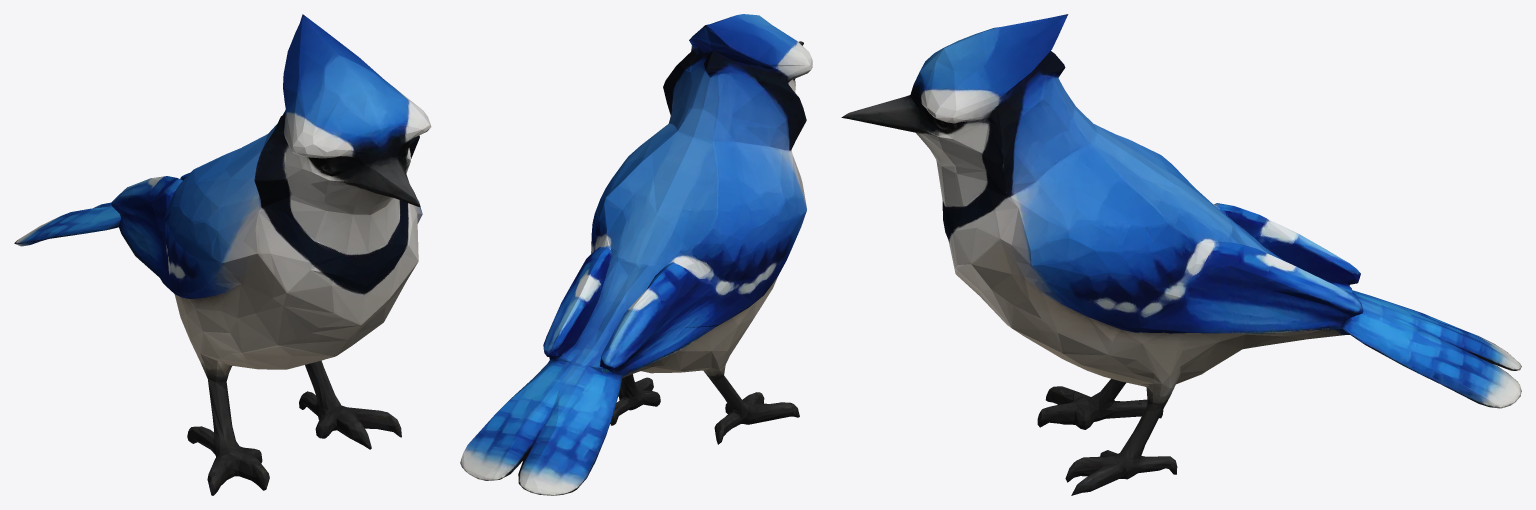
File: blue_jay.glb
3 views of the same model, side by side, from view 1: azimuth 30°, elevation 25°; view 2: azimuth 150°, elevation 25°; view 3: azimuth 270°, elevation 25° (orthographic). The views are drawn at different scales.
Parts seen in each view (by area): view 1: world; view 2: world; view 3: world.
Boxes of the visible parts, <box> form: world: <box>14,14,431,495</box>; world: <box>460,14,812,495</box>; world: <box>841,14,1521,495</box>.
Bounding box in the file's own units: 0.3403 × 0.7081 × 0.9968.
Materials: 1 (1 with a texture image).
